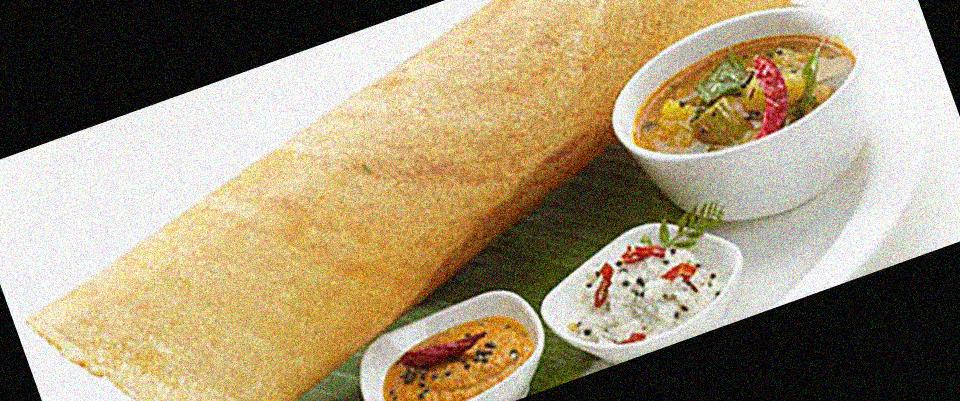dosa: (29, 1, 789, 401)
